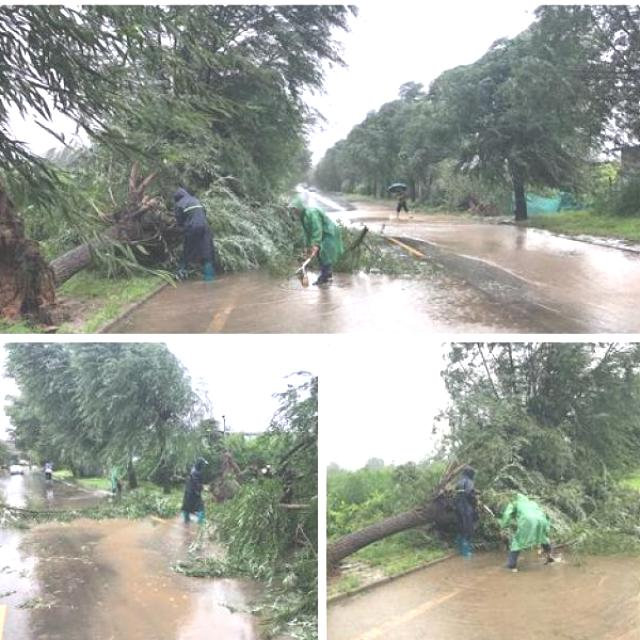fallen_object: (325, 395, 640, 575), (47, 174, 394, 284)
